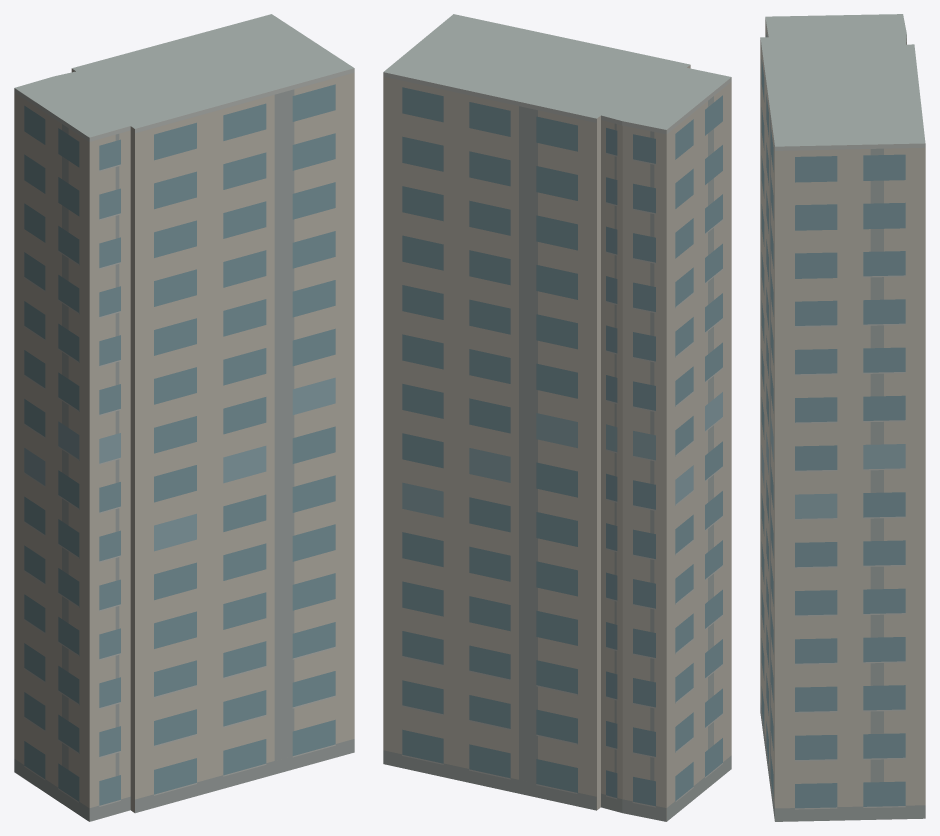
The model's file is survey-upis-32744099.glb.
3 views of the same model, side by side, from view 1: azimuth 30°, elevation 25°; view 2: azimuth 150°, elevation 25°; view 3: azimuth 270°, elevation 25° (orthographic). The views are drawn at different scales.
Visible parts, largest first — view 1: survey-upis-32744099.tmp; view 2: survey-upis-32744099.tmp; view 3: survey-upis-32744099.tmp.
Part boxes in pixels (x1=…): survey-upis-32744099.tmp: x1=14, y1=14, x2=354, y2=821; survey-upis-32744099.tmp: x1=383, y1=14, x2=731, y2=821; survey-upis-32744099.tmp: x1=760, y1=14, x2=925, y2=821.
Size of the model in its own units: 16.08 by 38.15 by 8.46.
